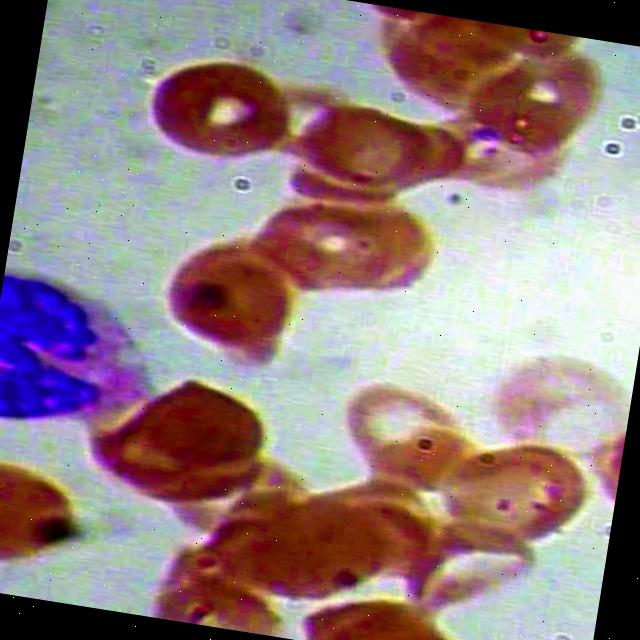RBC: (419, 418, 608, 568), (446, 25, 630, 173), (236, 181, 448, 307), (138, 232, 318, 364), (216, 476, 395, 608), (132, 44, 311, 175), (467, 336, 638, 468), (123, 362, 293, 485), (310, 376, 480, 499), (277, 88, 447, 210), (394, 514, 552, 634), (348, 2, 514, 114), (286, 577, 487, 640), (0, 449, 93, 578), (136, 562, 290, 638)
WBC: (0, 256, 167, 448)
